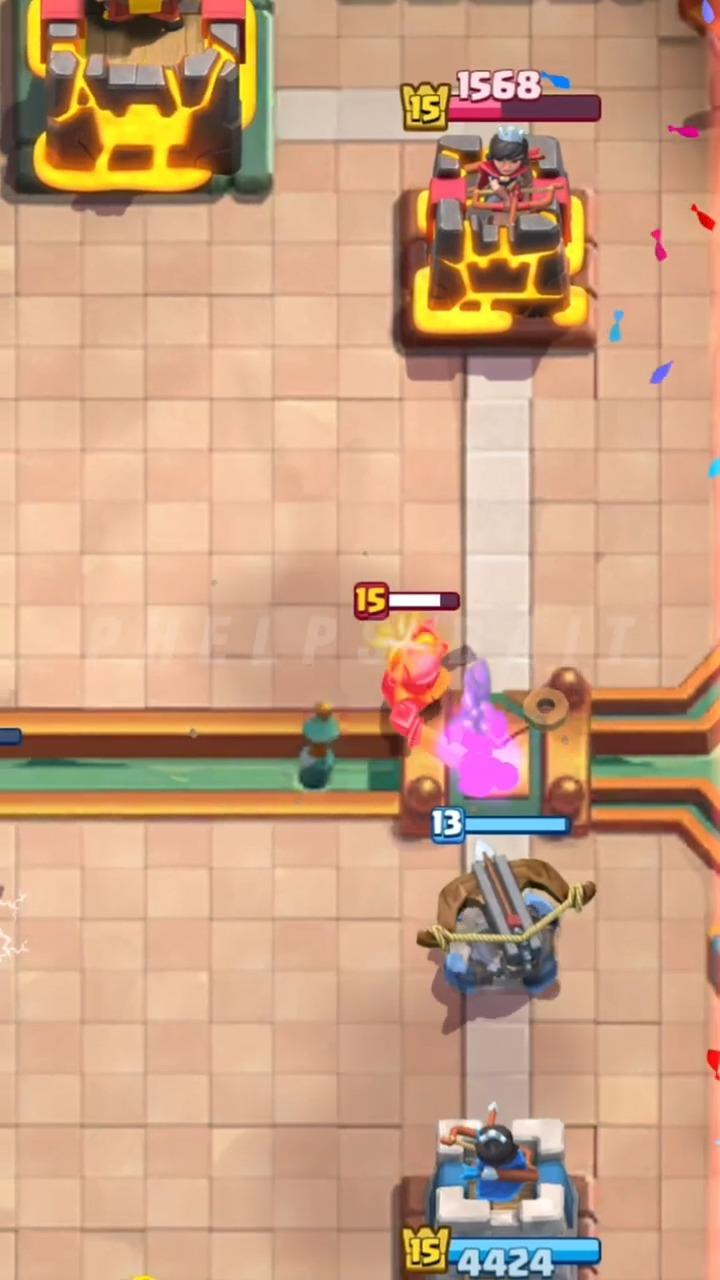mini pekka: (382, 619, 449, 746)
x-bow: (418, 841, 569, 997)
